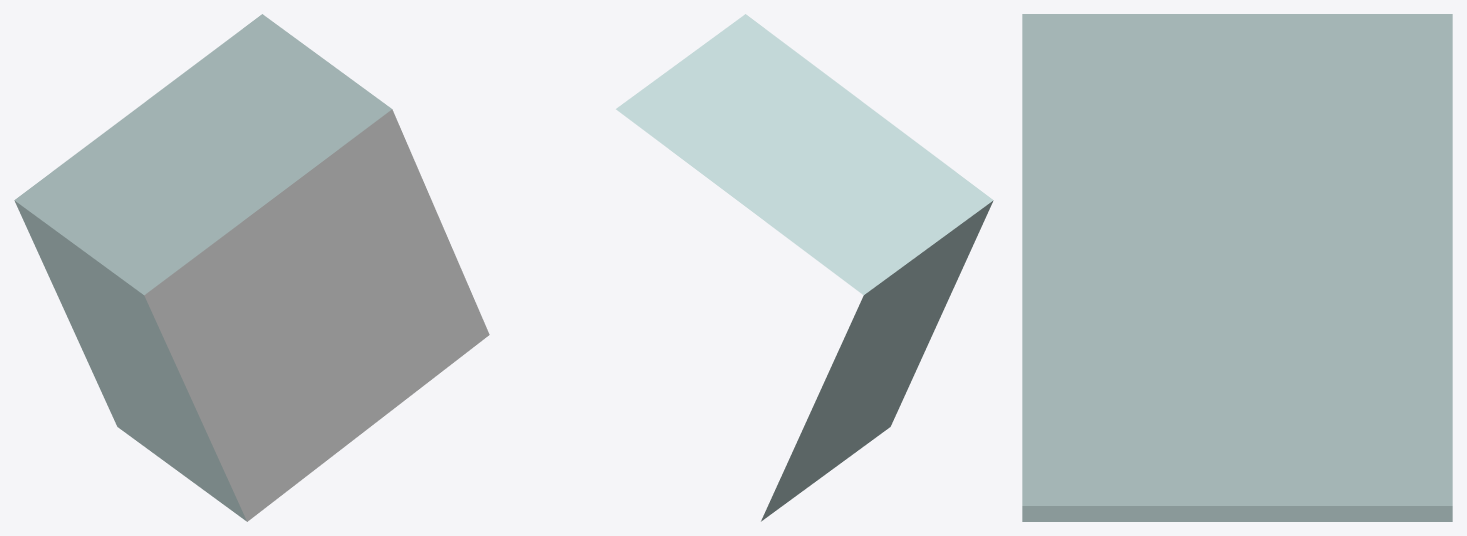
The picture shows the model from 3 angles, left to right: view 1: azimuth 30°, elevation 25°; view 2: azimuth 150°, elevation 25°; view 3: azimuth 270°, elevation 25°; orthographic projection. The views are drawn at different scales.
Parts seen in each view (by area): view 1: 0_1_1_3_1_2_2_2_3; view 2: 0_1_1_3_1_2_2_2_3; view 3: 0_1_1_3_1_2_2_2_3.
Boxes of the visible parts, box(x1,y1,x2,y2) form: 0_1_1_3_1_2_2_2_3: box(14, 14, 489, 521); 0_1_1_3_1_2_2_2_3: box(616, 14, 993, 521); 0_1_1_3_1_2_2_2_3: box(1022, 14, 1452, 521).
Bounding box in the file's own units: 4.6 × 4.81 × 3.
